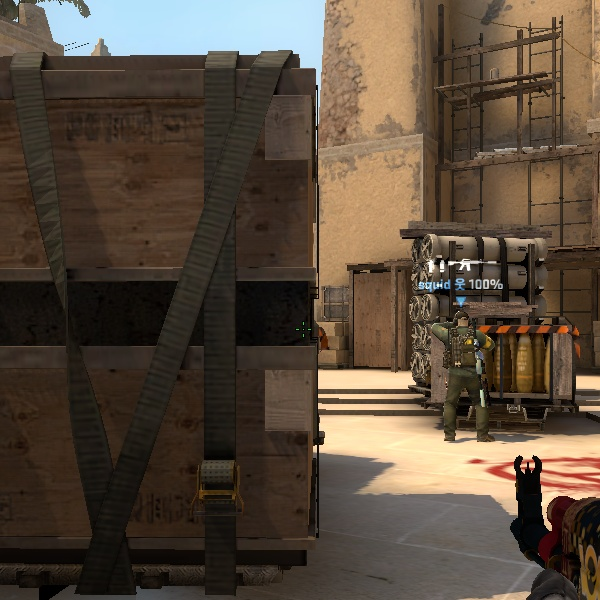ct_body: (422, 306, 502, 445)
ct_head: (450, 307, 477, 333)
